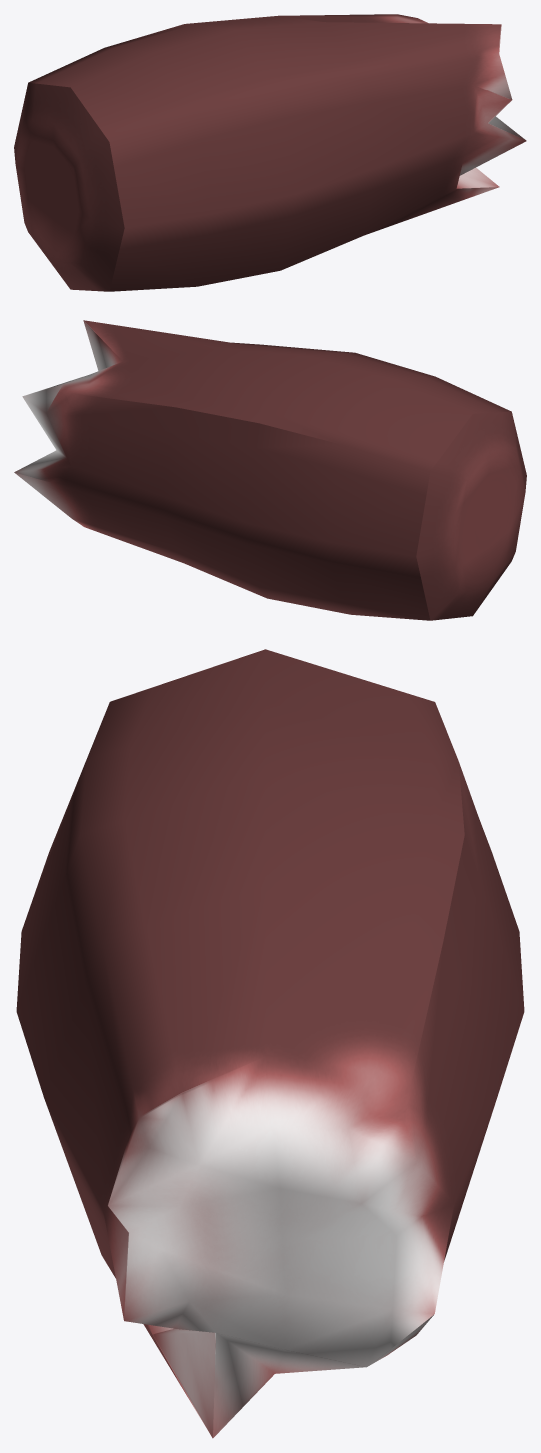
Rendered from rippedArm_Red.fbx.
The picture shows the model from 3 angles, top to bottom: view 1: azimuth 30°, elevation 25°; view 2: azimuth 150°, elevation 25°; view 3: azimuth 270°, elevation 25°; orthographic projection. The views are drawn at different scales.
Parts seen in each view (by area): view 1: pCube1; view 2: pCube1; view 3: pCube1.
Part boxes in pixels (box(x1,y1,x2,y2)): pCube1: box(14, 14, 526, 291); pCube1: box(14, 320, 526, 620); pCube1: box(16, 649, 524, 1438).
Size of the model in its own units: 1.18 by 0.6021 by 0.5848.
Materials: 1 (1 with a texture image).
